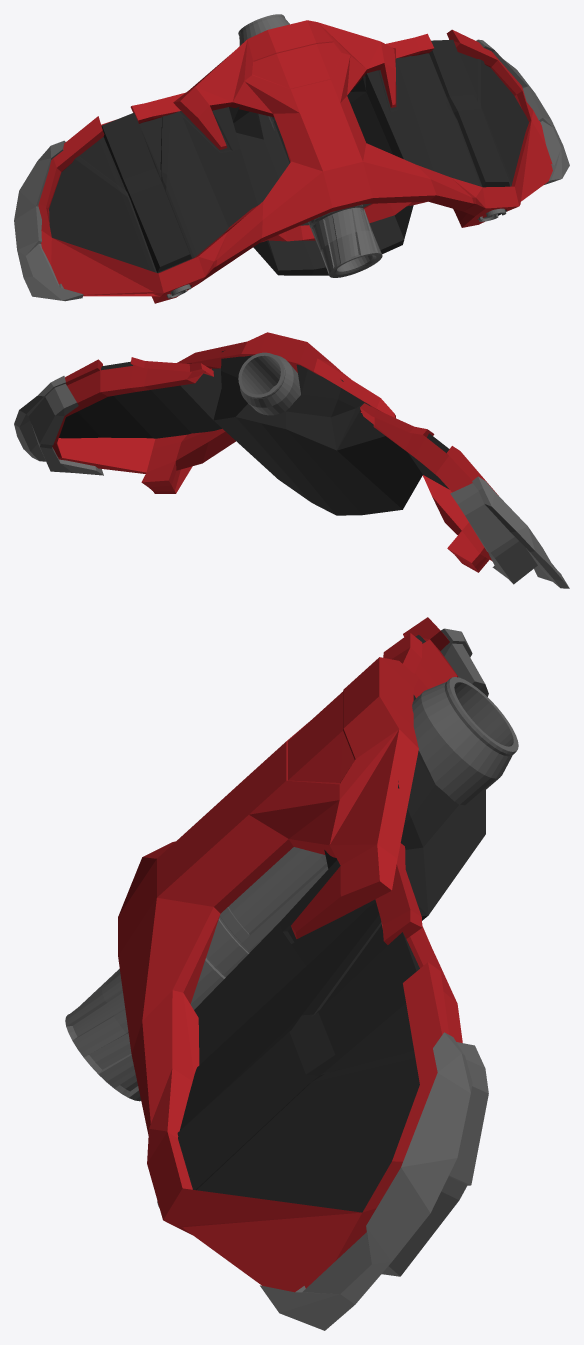
The model's file is minifbwebshooter.glb.
3 views of the same model, one above another, from view 1: azimuth 30°, elevation 25°; view 2: azimuth 150°, elevation 25°; view 3: azimuth 270°, elevation 25° (orthographic). The views are drawn at different scales.
Parts seen in each view (by area): view 1: Black Inside, Base Red, Metallic Outer, Cylinder Base.001, Cylinder Base; view 2: Black Inside, Base Red, Metallic Outer, Cylinder Base; view 3: Base Red, Black Inside, Metallic Outer, Cylinder Base, Cylinder Base.001.
Boxes of the visible parts, x1=… form: Black Inside: x1=49, y1=39, x2=528, y2=275; Base Red: x1=38, y1=20, x2=552, y2=303; Metallic Outer: x1=14, y1=39, x2=569, y2=301; Cylinder Base.001: x1=311, y1=207, x2=382, y2=277; Cylinder Base: x1=238, y1=14, x2=363, y2=228; Black Inside: x1=59, y1=350, x2=449, y2=515; Base Red: x1=52, y1=332, x2=498, y2=572; Metallic Outer: x1=14, y1=376, x2=569, y2=588; Cylinder Base: x1=238, y1=352, x2=300, y2=415; Base Red: x1=118, y1=617, x2=462, y2=1292; Black Inside: x1=177, y1=635, x2=485, y2=1212; Metallic Outer: x1=260, y1=628, x2=488, y2=1330; Cylinder Base: x1=190, y1=677, x2=518, y2=1009; Cylinder Base.001: x1=65, y1=969, x2=141, y2=1101.
Bounding box in the file's own units: 2.71 × 1.04 × 0.9838.
